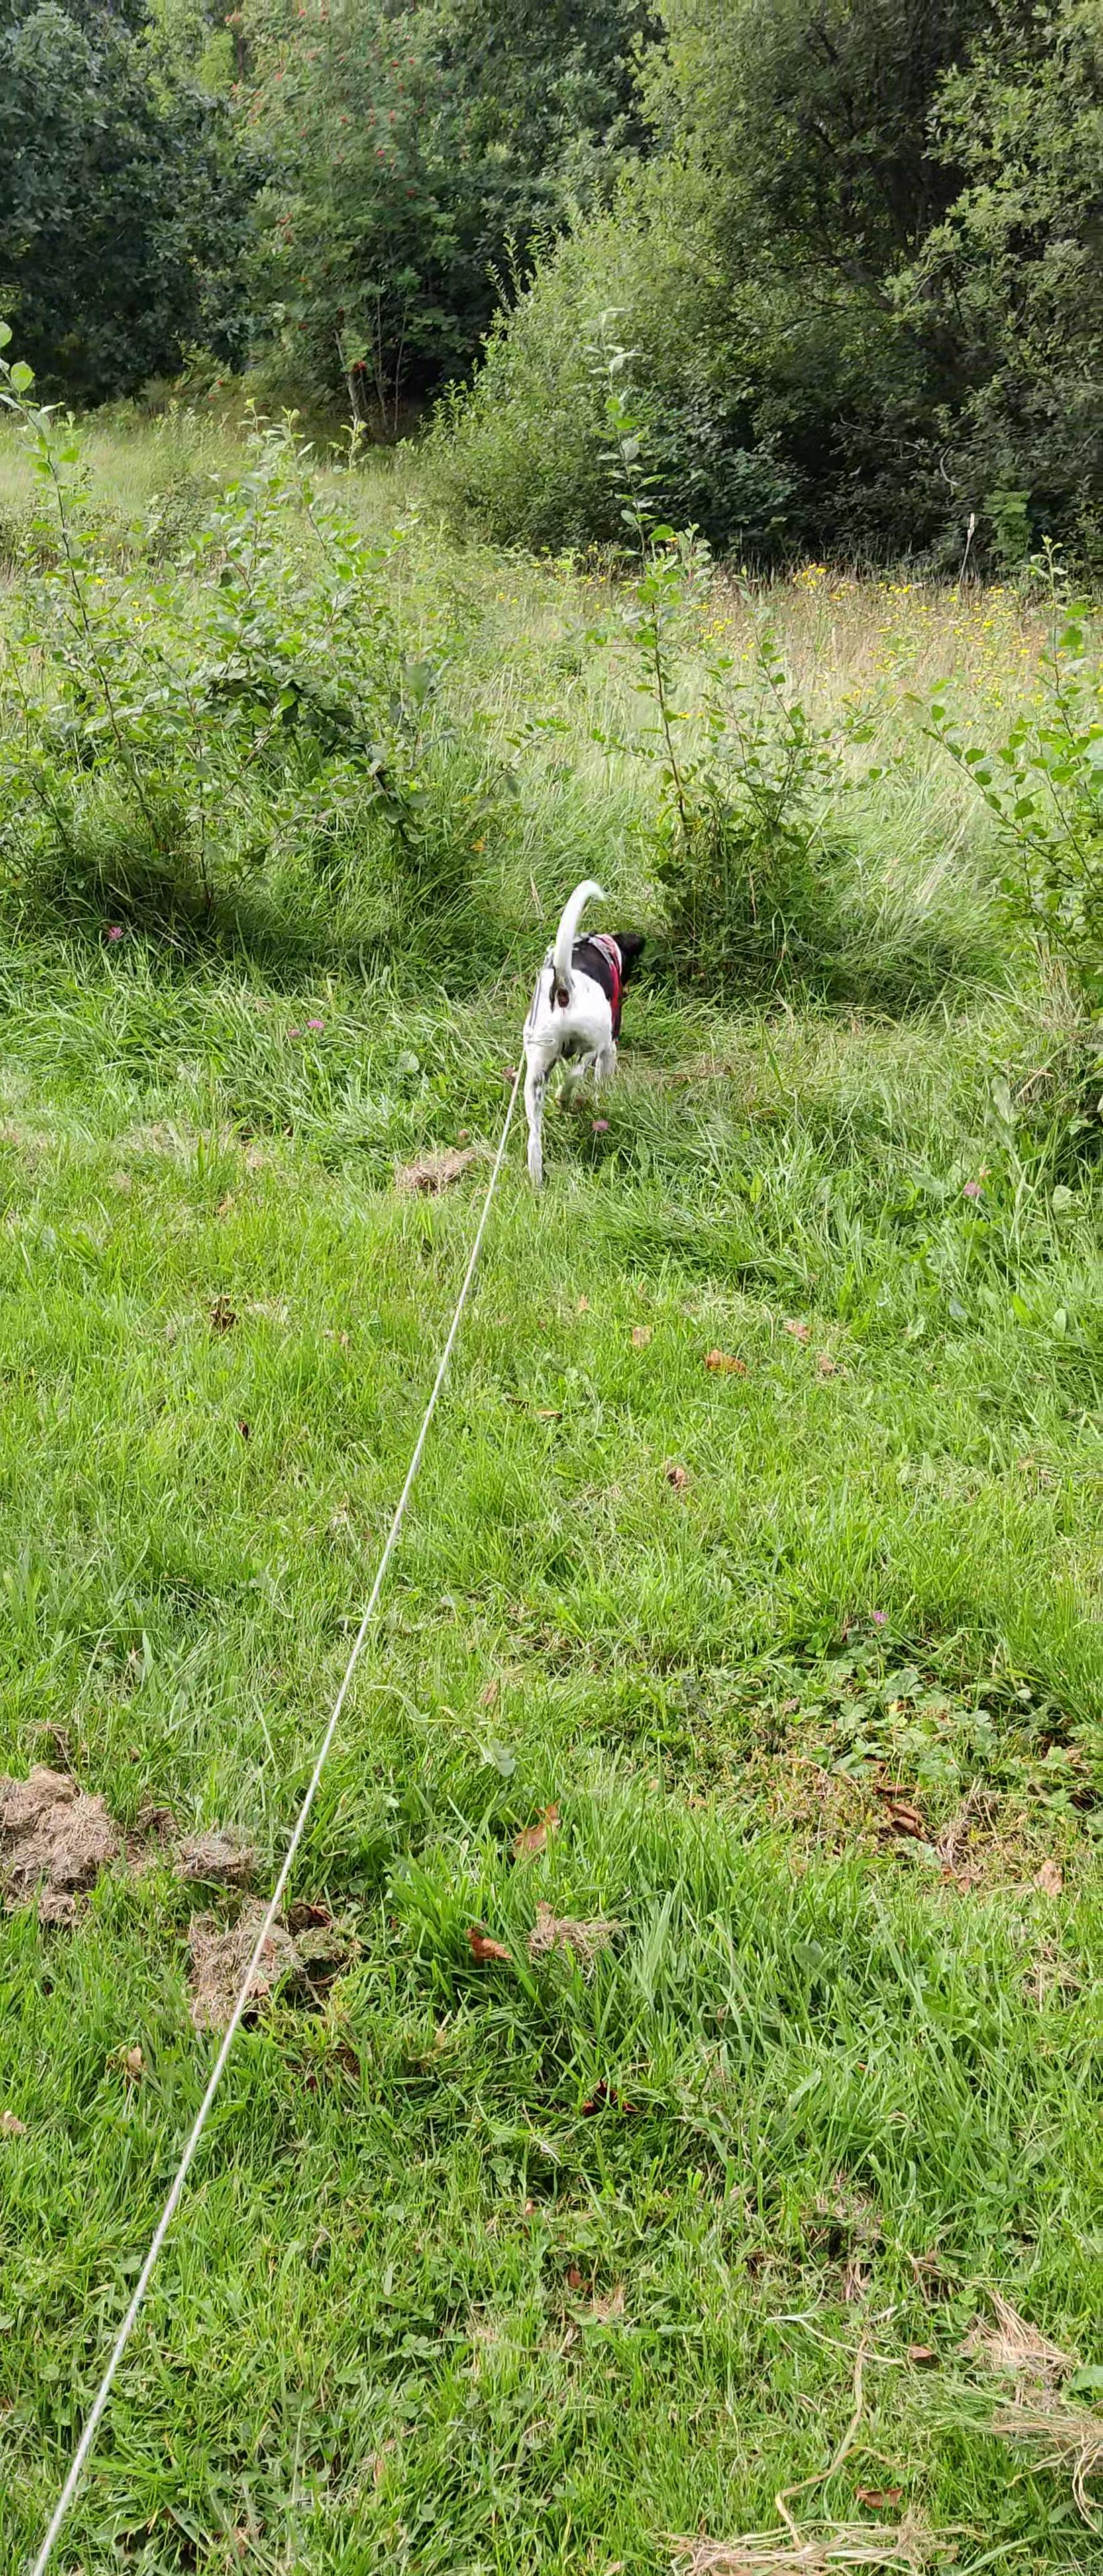Dog: (482, 859, 676, 1204)
